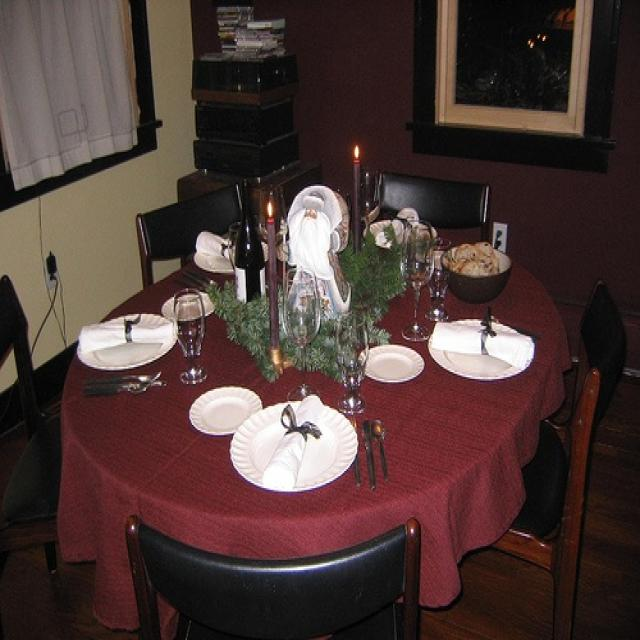bottle: (234, 175, 268, 312)
chair: (495, 279, 626, 634), (123, 510, 427, 639), (1, 275, 66, 581), (133, 189, 249, 288), (366, 169, 509, 227)
diningtable: (62, 230, 563, 639)
